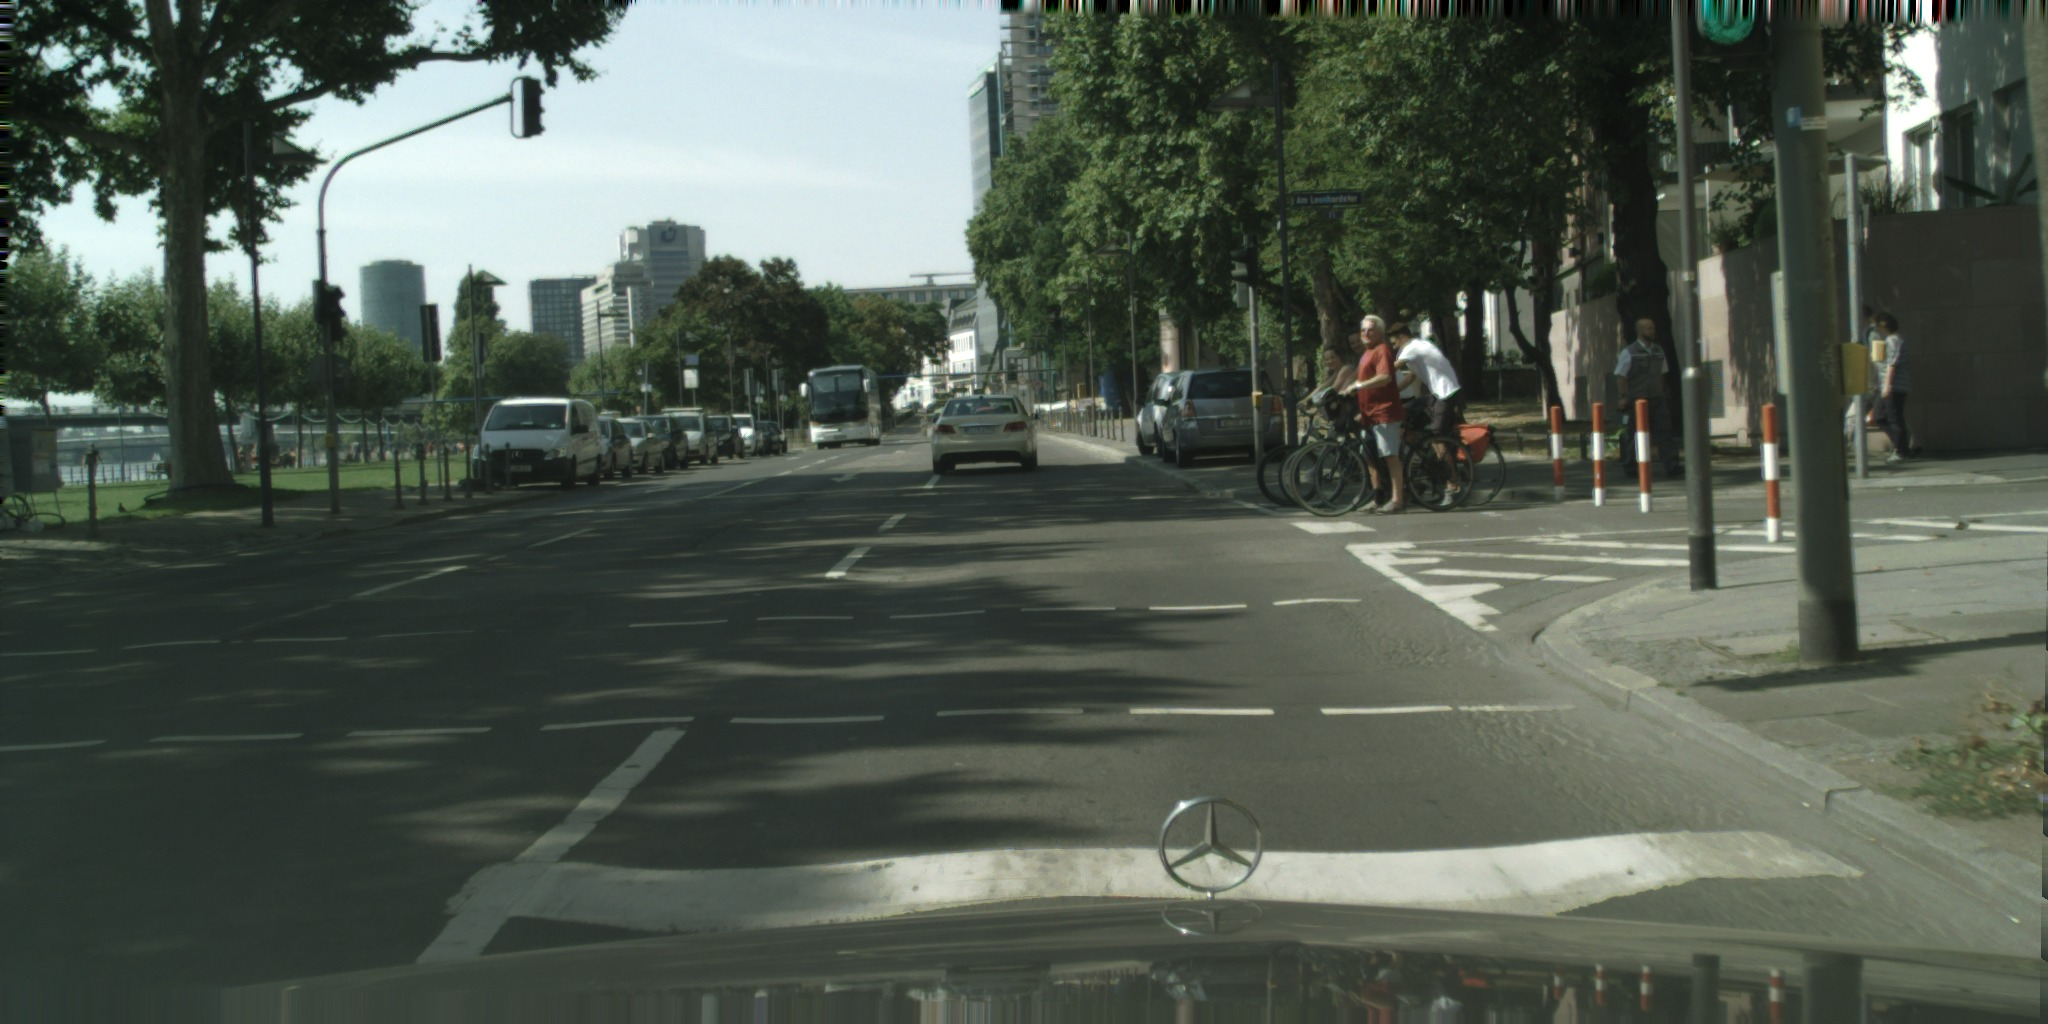bicycle: (1289, 386, 1476, 517), (1437, 400, 1508, 508), (1255, 406, 1327, 508), (1277, 442, 1326, 508)
bus: (797, 363, 883, 450)
car: (1155, 364, 1290, 470), (473, 393, 602, 492), (929, 393, 1039, 476), (1134, 365, 1219, 458), (658, 406, 720, 466), (606, 416, 666, 474), (581, 415, 634, 481), (632, 413, 690, 470), (696, 414, 746, 460), (721, 412, 757, 456), (760, 419, 789, 454), (749, 420, 773, 455), (932, 401, 953, 423), (926, 403, 944, 414)
person: (1612, 318, 1691, 480), (1838, 297, 1890, 453), (1870, 310, 1913, 465), (82, 441, 106, 483), (237, 443, 248, 468), (427, 441, 434, 456)
rider: (1338, 314, 1409, 515), (1378, 320, 1463, 462), (1296, 344, 1376, 415), (1331, 326, 1373, 403)
